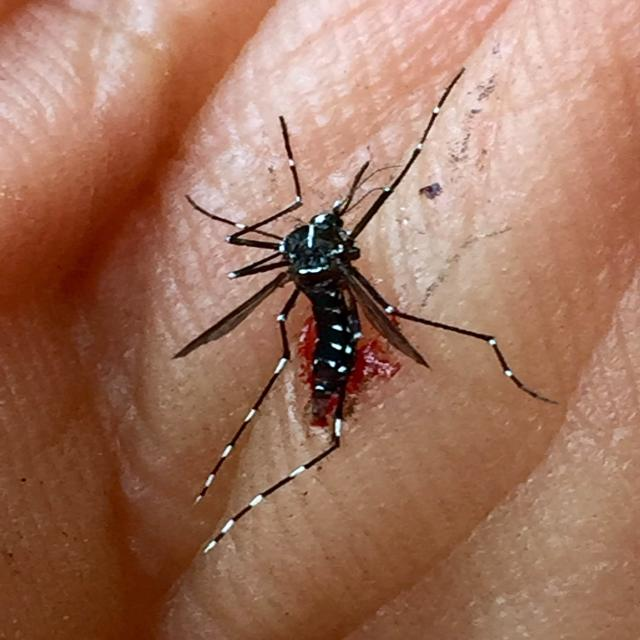albopictus: (137, 32, 577, 587)
